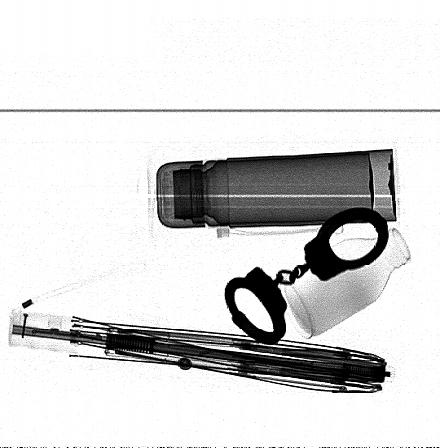HandCuffs: (225, 206, 389, 345)
